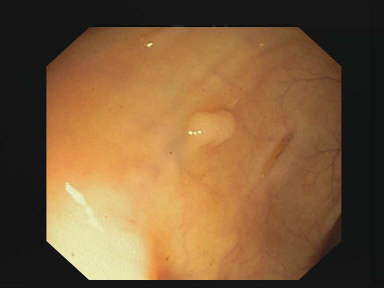polyp: (186, 107, 238, 148)
